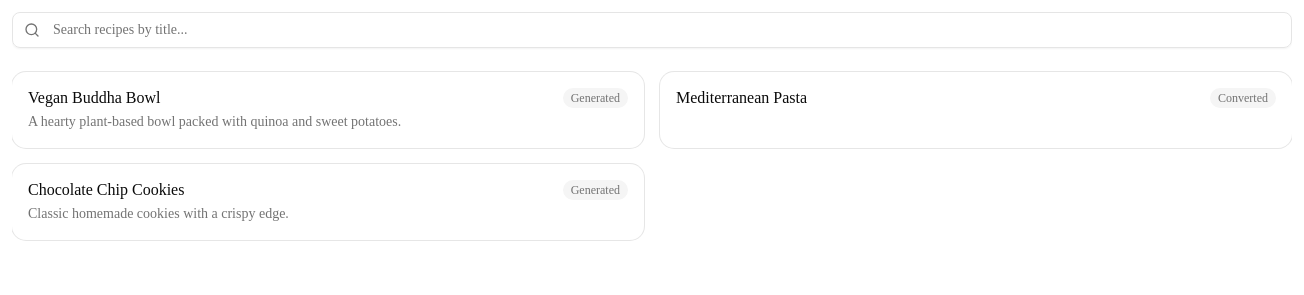
RecipesList › shows no results state when search matches nothing
Step 1. Type "zzzzxxyy" into the field with test id "search-input" → (652, 30), box [12, 12, 1292, 48]
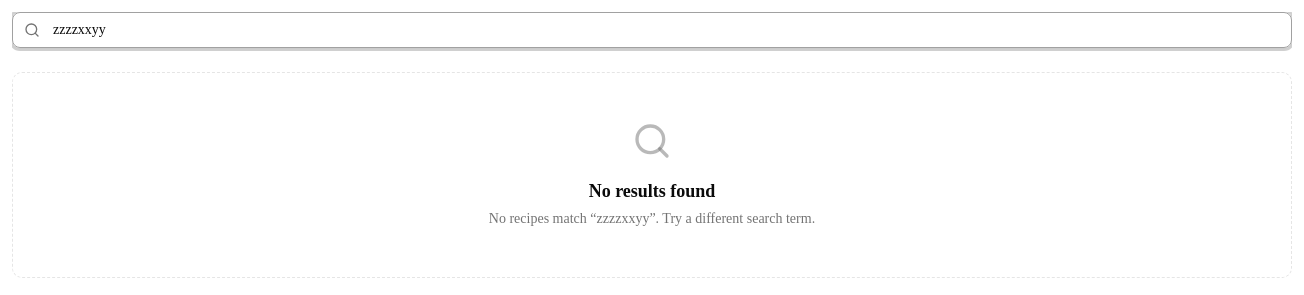
Result: the element with test id "no-results-state" is shown
Result: the heading "No results found" is shown at [589, 177, 715, 205]
